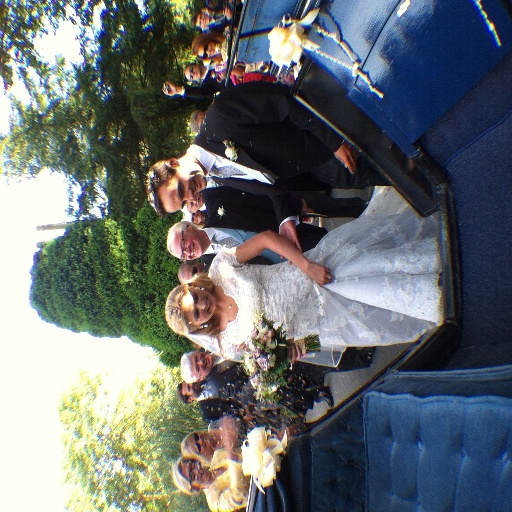hand: (278, 220, 302, 267), (333, 139, 359, 176), (219, 413, 240, 454), (286, 333, 307, 367), (307, 262, 332, 286), (278, 422, 298, 444), (160, 80, 176, 99), (222, 4, 232, 21)
